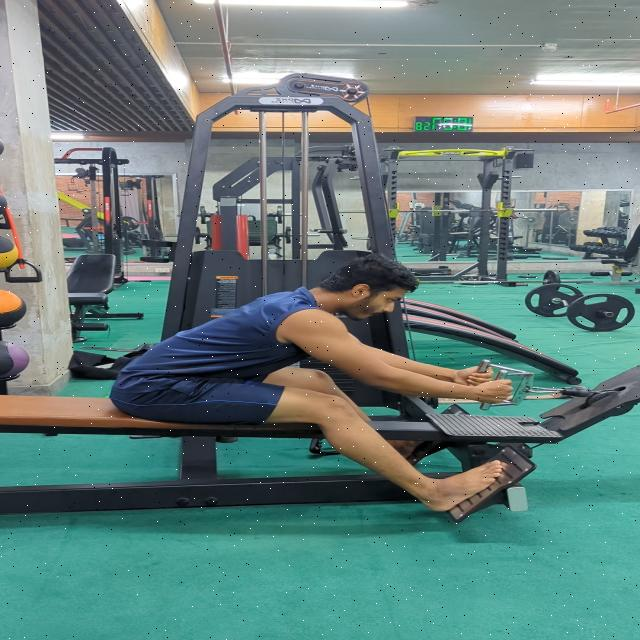Normal_RowingMachineExercise: (106, 252, 515, 514)
